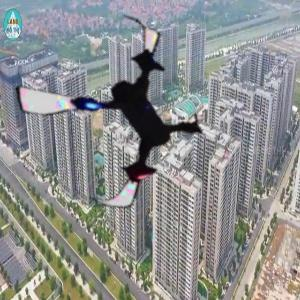drone: (14, 13, 217, 216)
